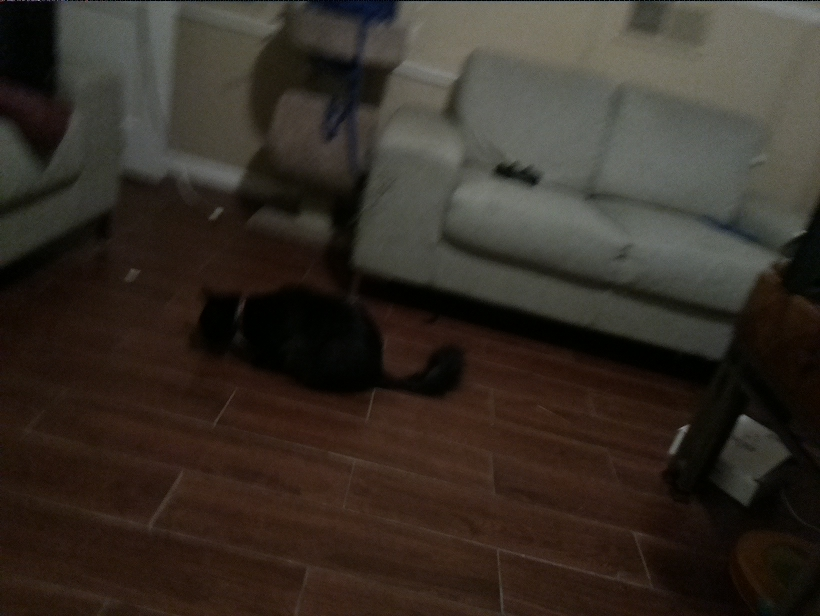cat: (185, 279, 469, 401)
